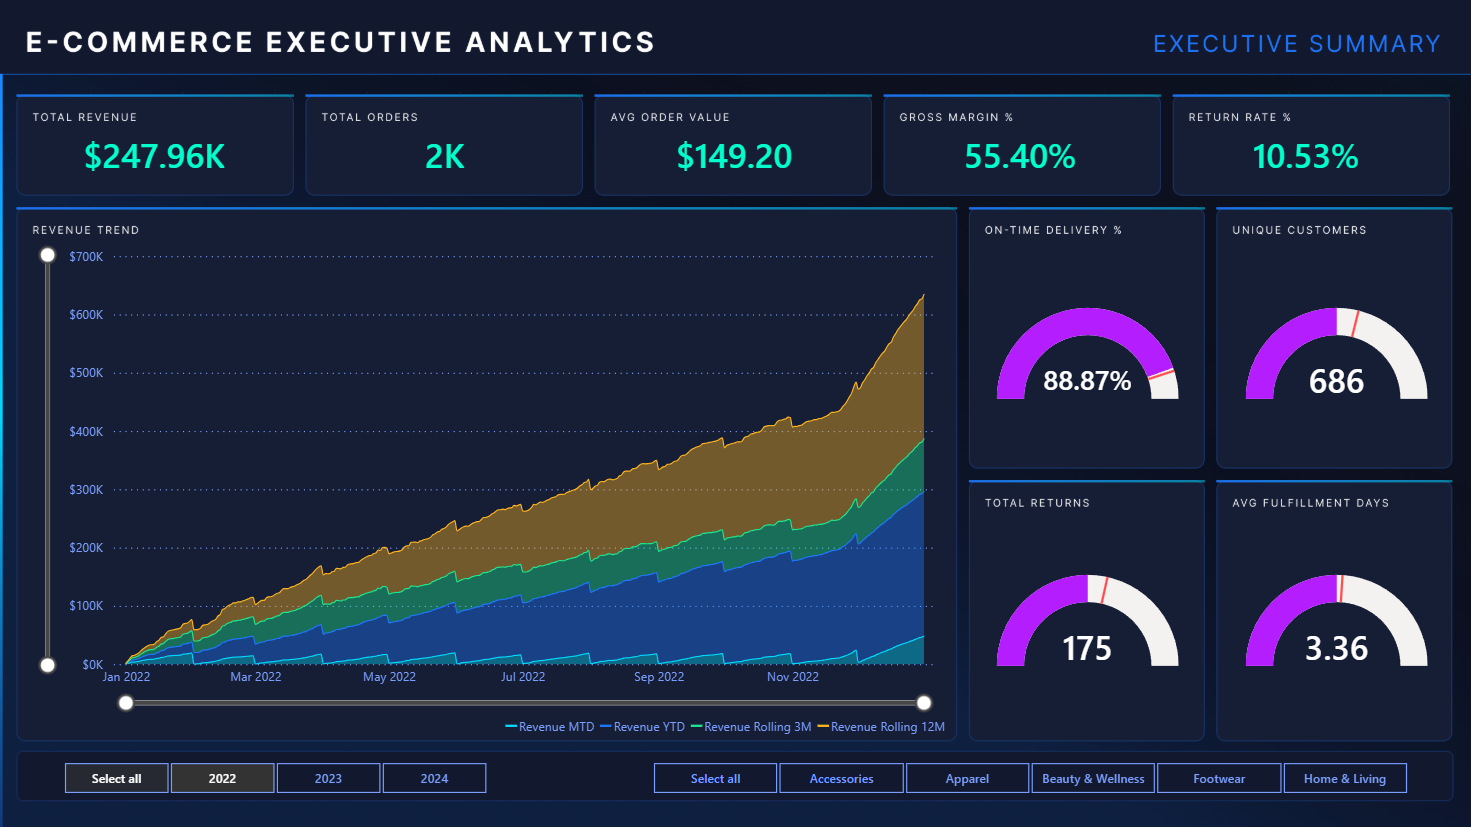

What the dashboard file says about the page in this screenshot:
{"tool":"powerbi","page":{"name":"Executive Summary","canvas":[1280,720],"ordinal":0},"visuals":[{"type":"cardVisual","fields":{"Data":["_Measures.Total Revenue"]},"box":[16,88,240,88],"z":0,"group":"g1"},{"type":"gauge","fields":{"Y":["_Measures.On-Time Delivery %"],"TargetValue":["_Measures.On-Time Delivery Target"]},"box":[861.9,218.5,168,176],"z":0,"group":"g2"},{"type":"cardVisual","fields":{"Data":["_Measures.Total Orders"]},"box":[264,88,248,88],"z":1000,"group":"g1"},{"type":"stackedAreaChart","fields":{"Y":["_Measures.Revenue MTD","_Measures.Revenue YTD","_Measures.Revenue Rolling 3M","_Measures.Revenue Rolling 12M"],"Category":["dim_date.Date"]},"box":[32,208,800,440],"z":1000},{"type":"gauge","fields":{"Y":["_Measures.Unique Customers"],"TargetValue":["_Measures.Unique Customers Target"]},"box":[1077.9,218.5,168,176],"z":1000,"group":"g2"},{"type":"group","id":"g1","title":"Group 1","box":[16,88,1240,88],"z":2000},{"type":"cardVisual","fields":{"Data":["_Measures.Avg Order Value"]},"box":[520,88,240,88],"z":2000,"group":"g1"},{"type":"gauge","fields":{"TargetValue":["_Measures.Total Returns Target"],"Y":["_Measures.Total Returns"]},"box":[861.9,450.5,168,176],"z":2000,"group":"g2"},{"type":"cardVisual","fields":{"Data":["_Measures.Gross Margin %"]},"box":[768,88,240,88],"z":3000,"group":"g1"},{"type":"group","id":"g2","title":"Group 2","box":[861.9,218.5,384,408],"z":3000},{"type":"gauge","fields":{"Y":["_Measures.Avg Fulfillment Days"],"TargetValue":["_Measures.Avg Fulfillment Days Target"]},"box":[1077.9,450.5,168,176],"z":3000,"group":"g2"},{"type":"cardVisual","fields":{"Data":["_Measures.Return Rate %"]},"box":[1016,88,240,88],"z":4000,"group":"g1"},{"type":"slicer","fields":{"Values":["dim_date.Year"]},"box":[32,656,416,40],"z":4000},{"type":"slicer","fields":{"Values":["dim_product.Category"]},"box":[544,656,704,40],"z":5000}]}

Visuals, with their boxes in screenshot pixels (x1, y1, x2, y2), scaled from the page's 1280x720 canvas onto the 1471x827 screenshot:
cardVisual - _Measures.Total Revenue: (18,101,294,202)
gauge - _Measures.On-Time Delivery % x _Measures.On-Time Delivery Target: (991,251,1184,453)
cardVisual - _Measures.Total Orders: (303,101,588,202)
stackedAreaChart - _Measures.Revenue MTD x _Measures.Revenue YTD: (37,239,956,744)
gauge - _Measures.Unique Customers x _Measures.Unique Customers Target: (1239,251,1432,453)
"Group 1" group: (18,101,1443,202)
cardVisual - _Measures.Avg Order Value: (598,101,873,202)
gauge - _Measures.Total Returns Target x _Measures.Total Returns: (991,517,1184,720)
cardVisual - _Measures.Gross Margin %: (883,101,1158,202)
"Group 2" group: (991,251,1432,720)
gauge - _Measures.Avg Fulfillment Days x _Measures.Avg Fulfillment Days Target: (1239,517,1432,720)
cardVisual - _Measures.Return Rate %: (1168,101,1443,202)
slicer - dim_date.Year: (37,753,515,799)
slicer - dim_product.Category: (625,753,1434,799)
